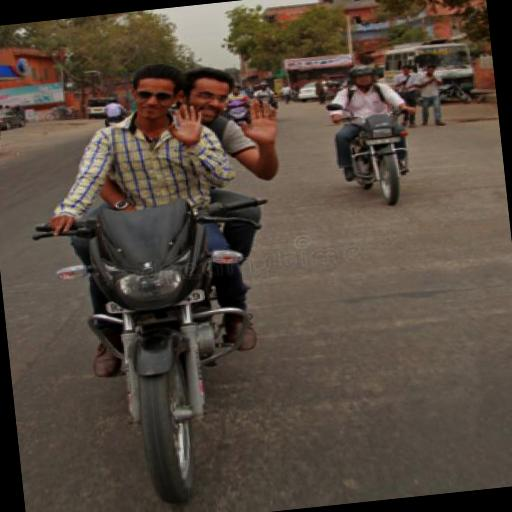helmet: (314, 44, 424, 202)
no helmet: (18, 42, 280, 492)
